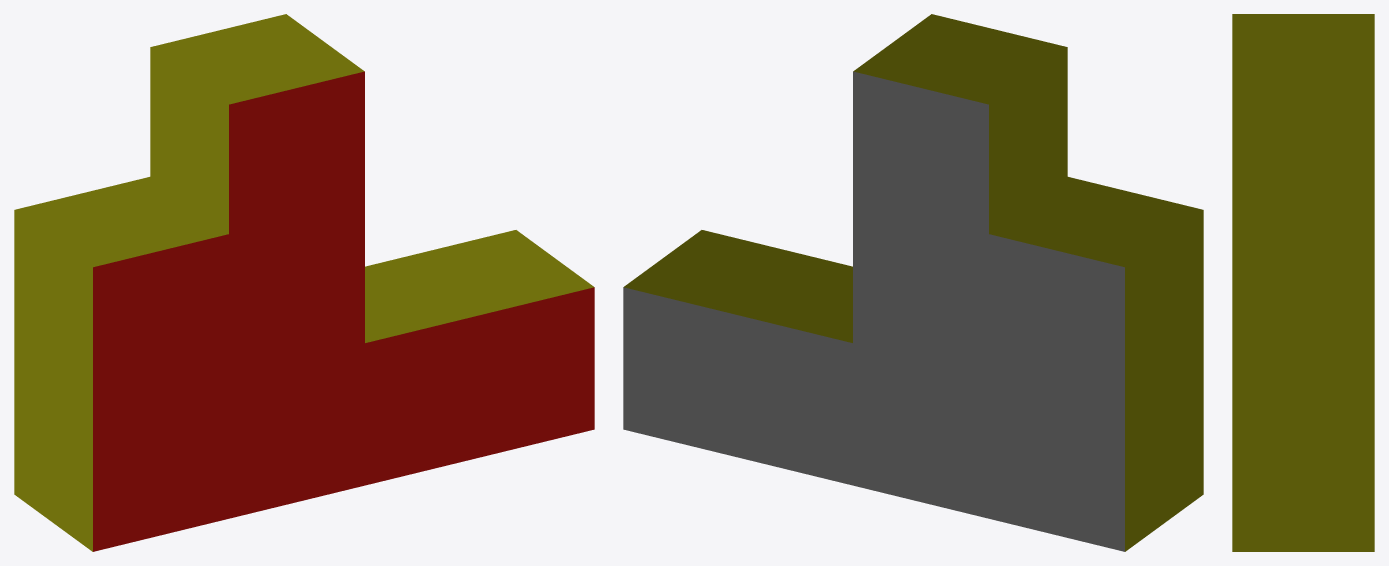
File: idf.obj
3 views of the same model, side by side, from view 1: azimuth 30°, elevation 25°; view 2: azimuth 150°, elevation 25°; view 3: azimuth 270°, elevation 25° (orthographic). The views are drawn at different scales.
Size of the model in its own units: 36.9 by 29.1 by 10.
